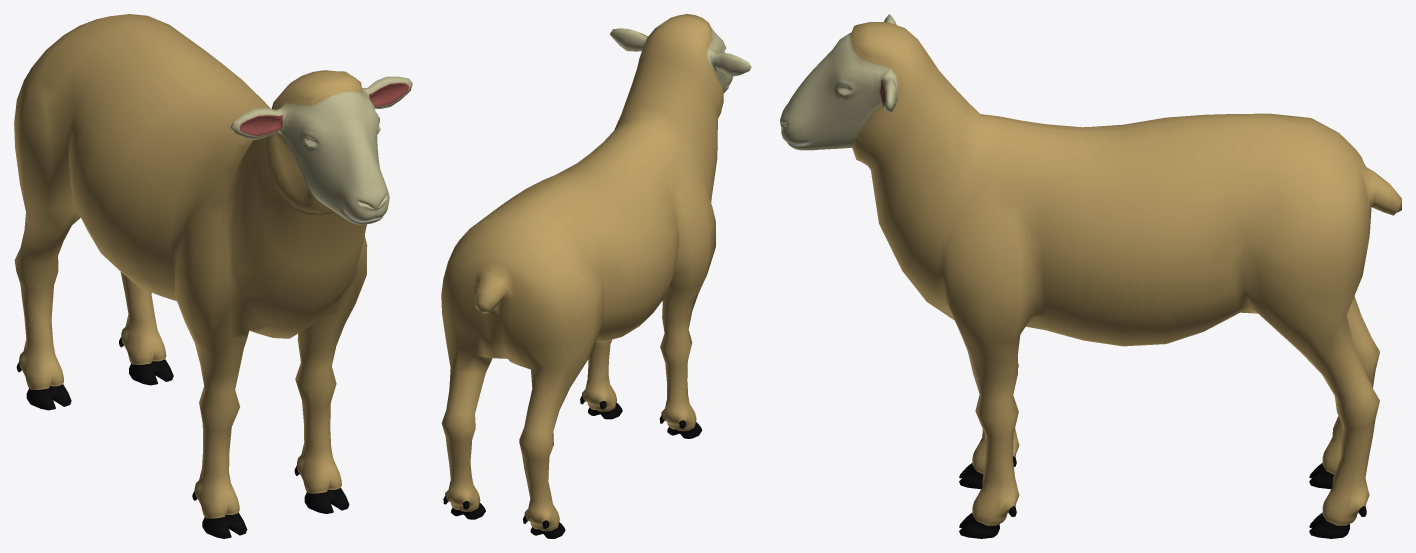
Rendered from sheep_sheep.obj.
3 views of the same model, side by side, from view 1: azimuth 30°, elevation 25°; view 2: azimuth 150°, elevation 25°; view 3: azimuth 270°, elevation 25° (orthographic). The views are drawn at different scales.
Parts seen in each view (by area): view 1: sheep; view 2: sheep; view 3: sheep.
Part boxes in pixels (left/top/right/bottom): sheep: left=14, top=14, right=412, bottom=538; sheep: left=441, top=14, right=751, bottom=538; sheep: left=780, top=14, right=1401, bottom=538.
Size of the model in its own units: 0.4925 by 1.17 by 1.38.
